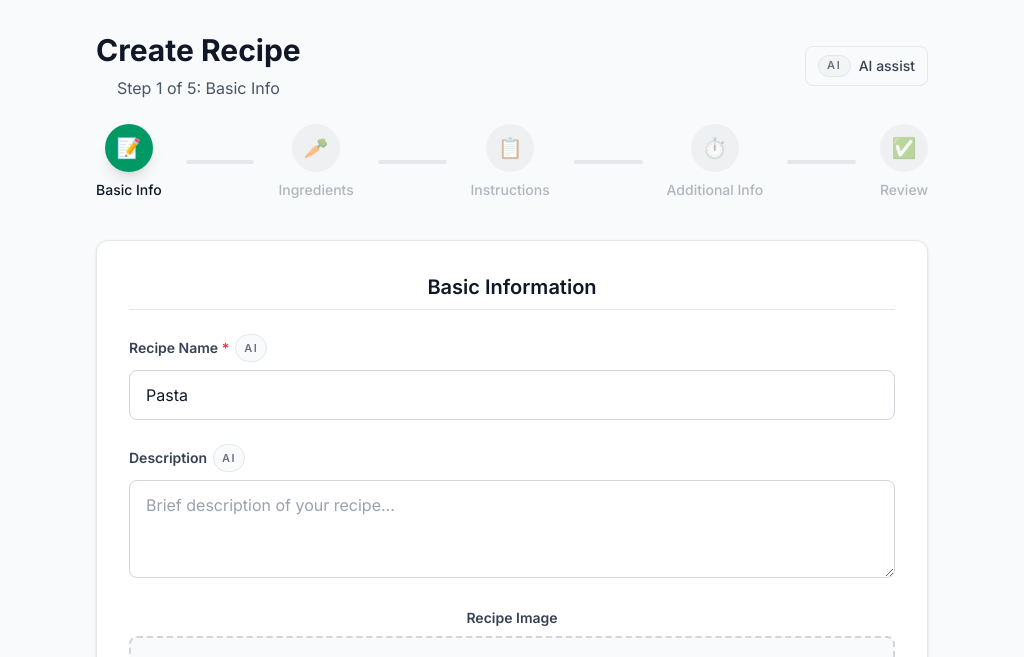
Test case: RecipeFormLayout — on-demand AI enhancement (issue #35) › shows the suggestion panel only after the button is clicked
Click the button "AI AI assist": point(867, 66) x1=805 y1=46 x2=928 y2=86
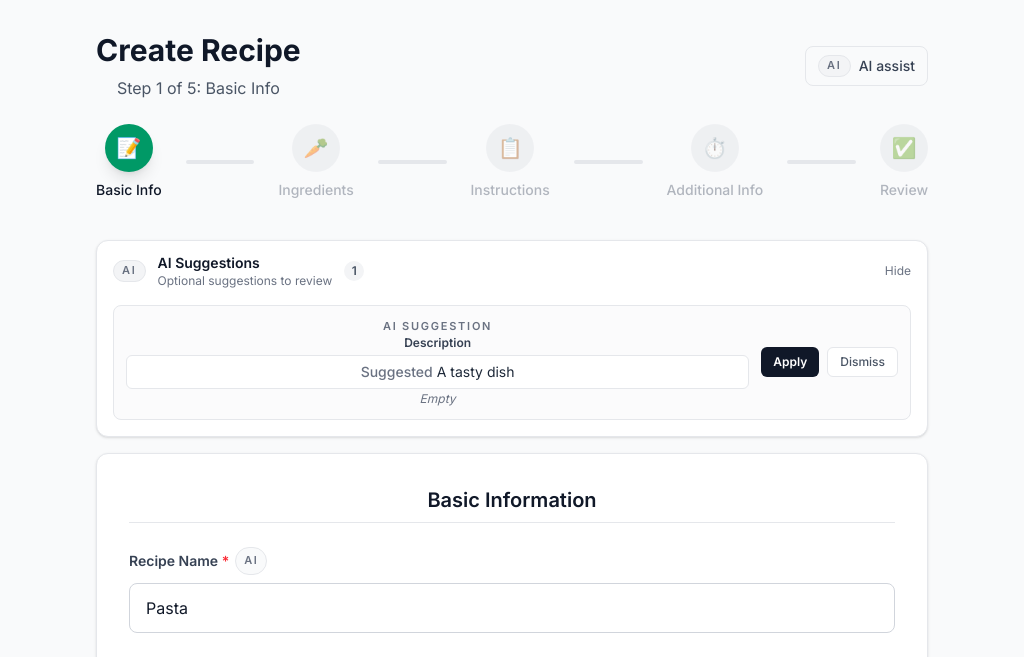
Expected: the element named "AI field suggestions" is shown, x1=96 y1=240 x2=928 y2=436
